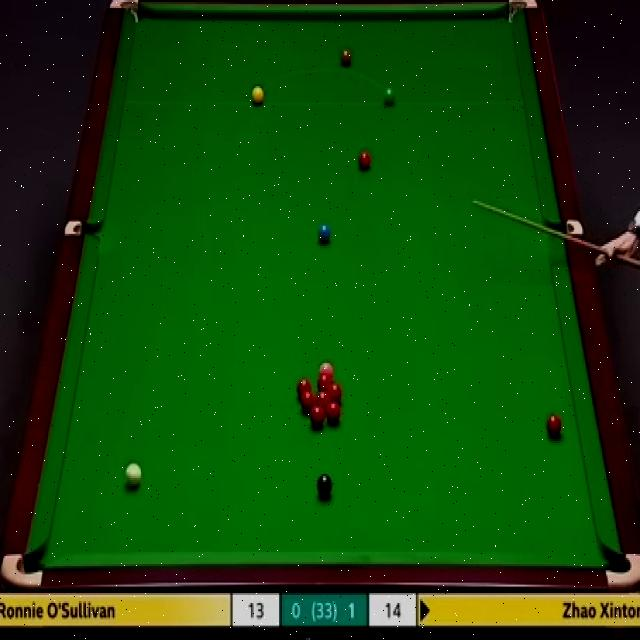black-ball: (316, 474, 332, 496)
blue-ball: (317, 223, 331, 243)
brown-ball: (340, 48, 351, 67)
green-ball: (382, 85, 396, 106)
pink-ball: (319, 361, 334, 377)
red-ball: (546, 413, 562, 437), (310, 406, 325, 428), (296, 378, 311, 399), (300, 391, 314, 413), (357, 151, 371, 172), (316, 393, 330, 412), (327, 403, 340, 423), (320, 374, 335, 391), (329, 384, 339, 402)
white-ball: (125, 463, 141, 486)
yellow-ball: (250, 86, 264, 105)
